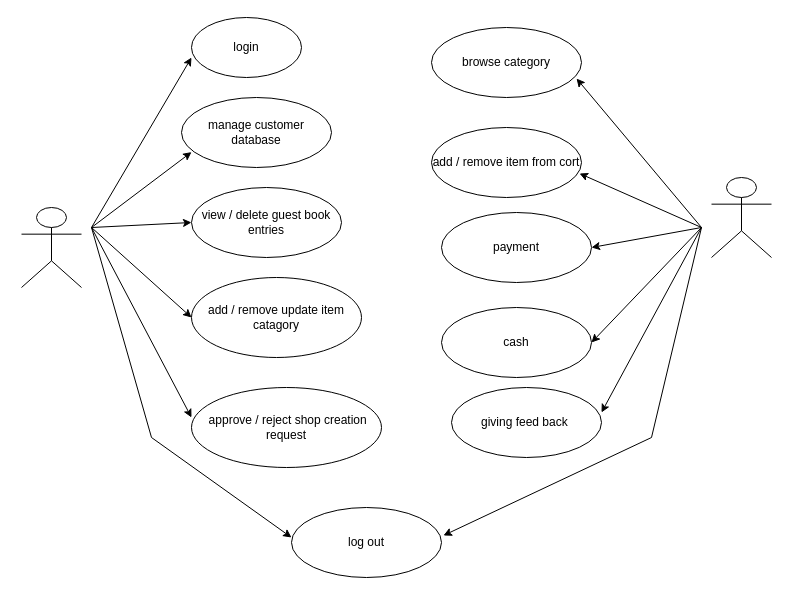
Some shapes in this 789 by 595 pixel diagram are drawn without their labels. The shapes that lost their labels are listed below. From the top down, each one's centre as x and y in pixels, then its label:
[741,217]: customer
[51,247]: administrator
